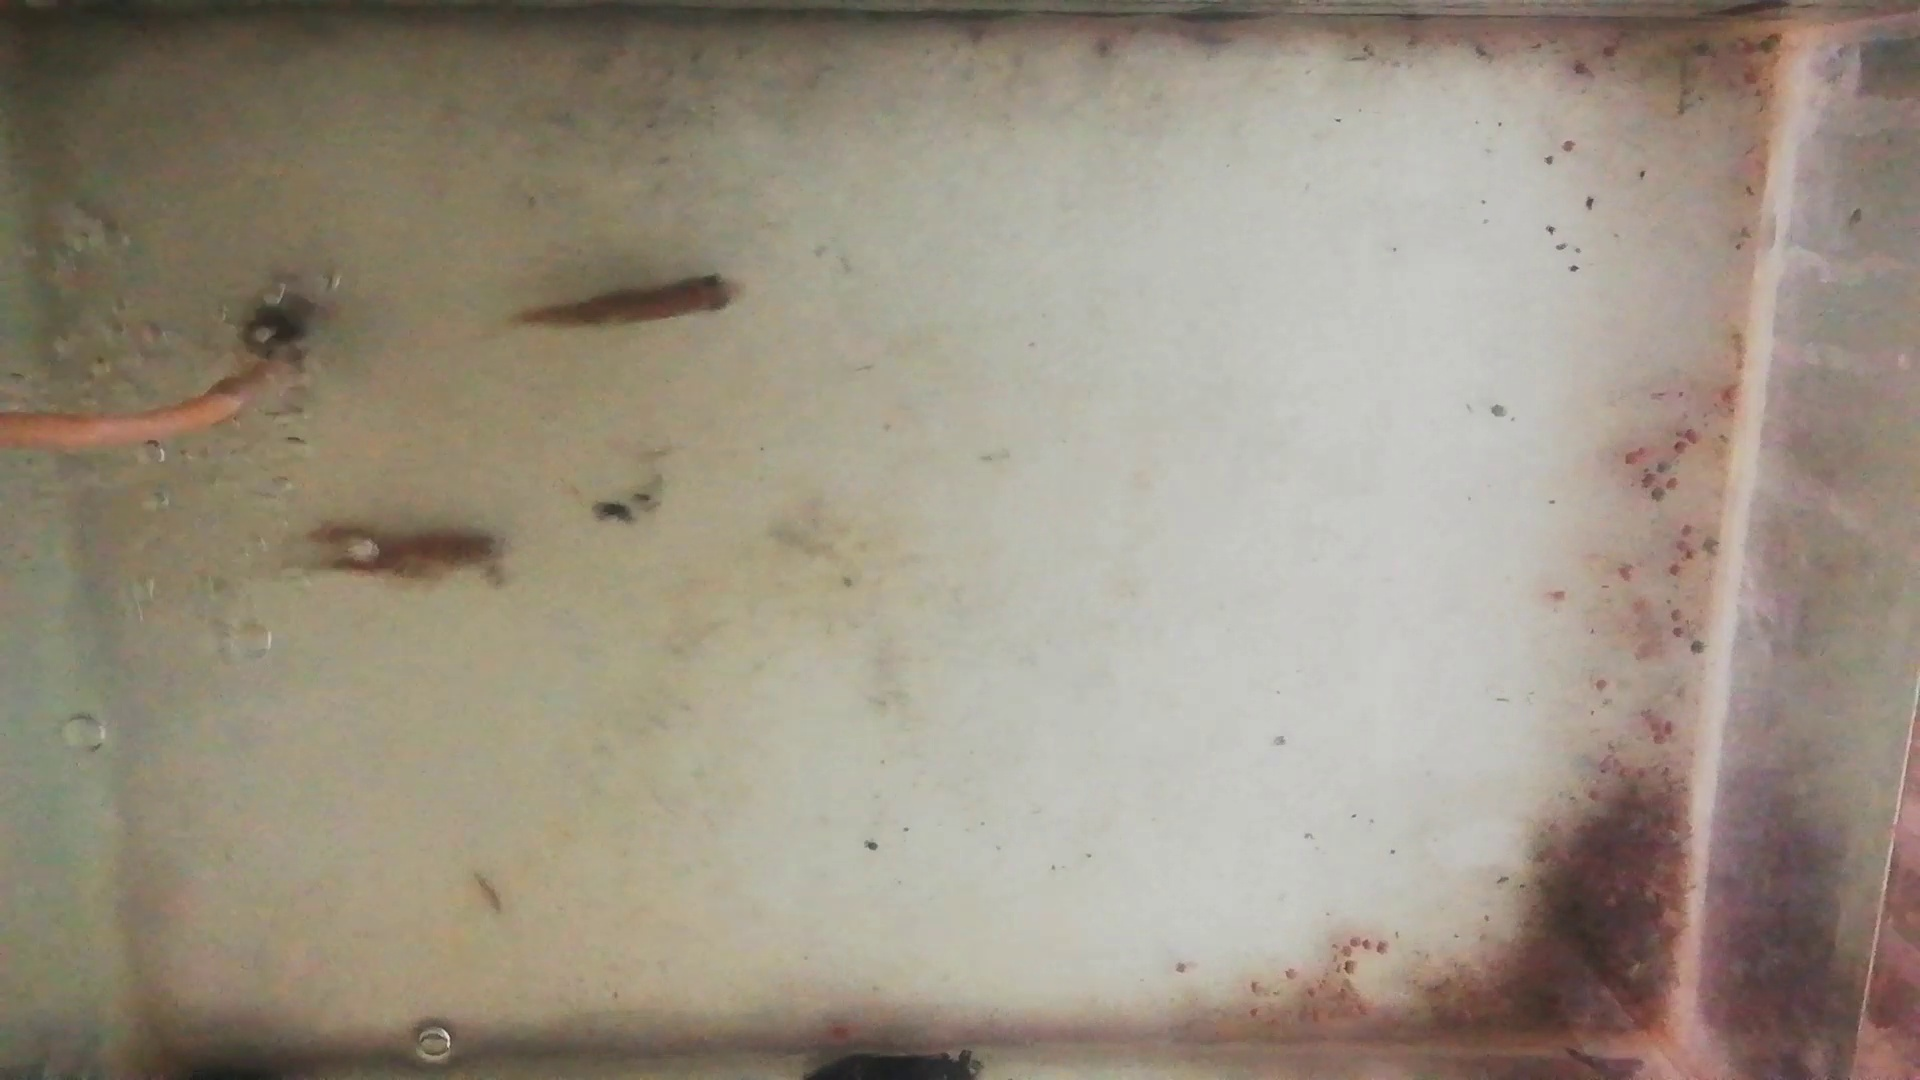fish: (278, 527, 510, 588), (514, 274, 745, 328)
